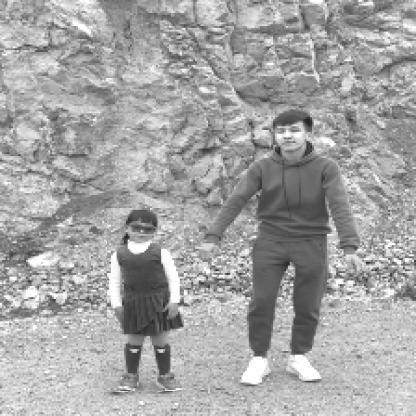child: (109, 209, 187, 393)
